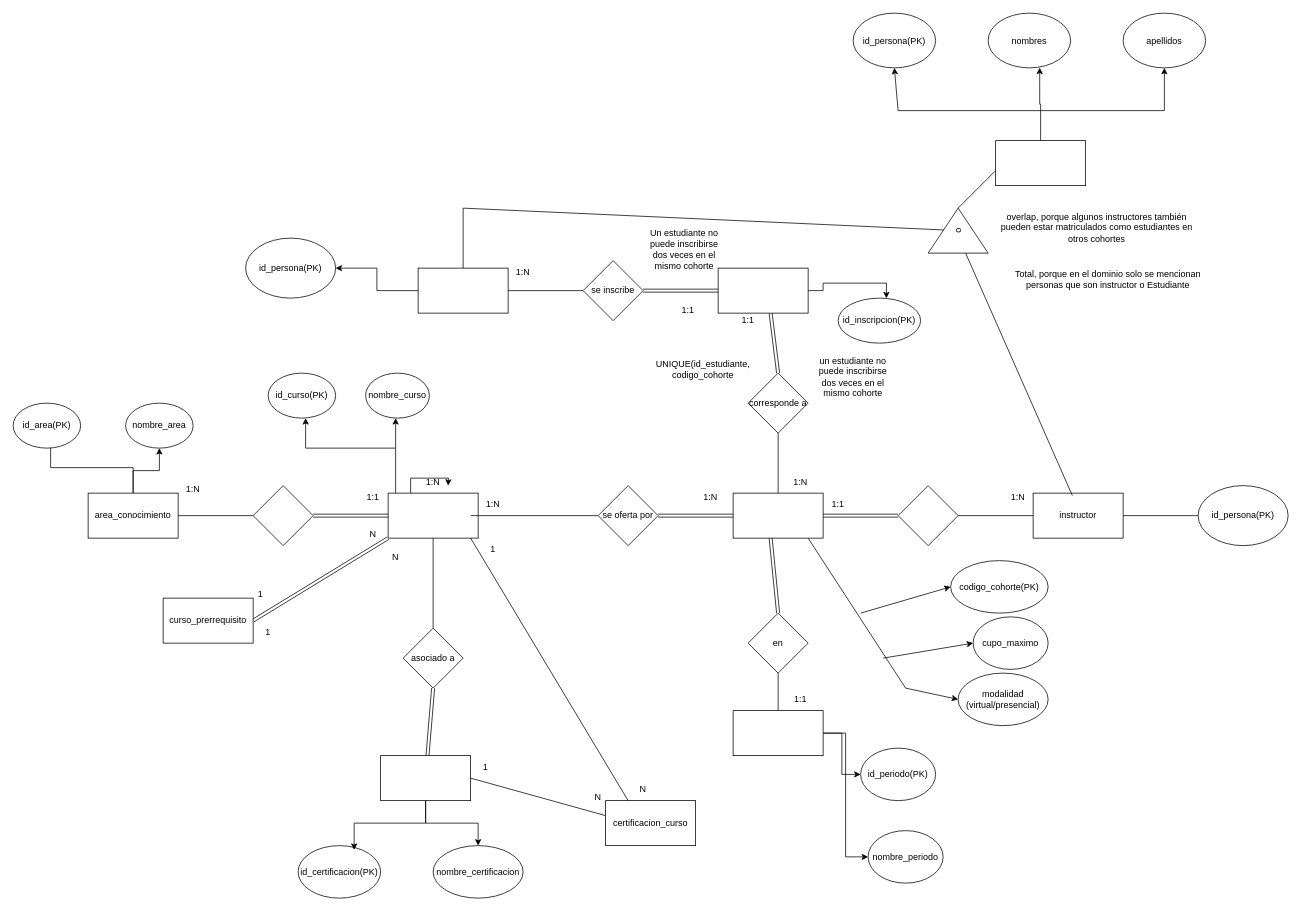
This 1301x911 diagram has some shape labels left out. Here are the shapes that lost their labels. From the top down, the box of each, then its label:
(995, 140, 1086, 186): persona
(417, 267, 508, 313): estudiante
(717, 267, 808, 313): inscripcion
(252, 485, 313, 546): pertenece
(387, 492, 478, 538): curso
(732, 492, 823, 538): cohorte
(897, 485, 958, 546): dicta
(732, 710, 823, 756): periodo_academico
(380, 755, 471, 801): certificacion
